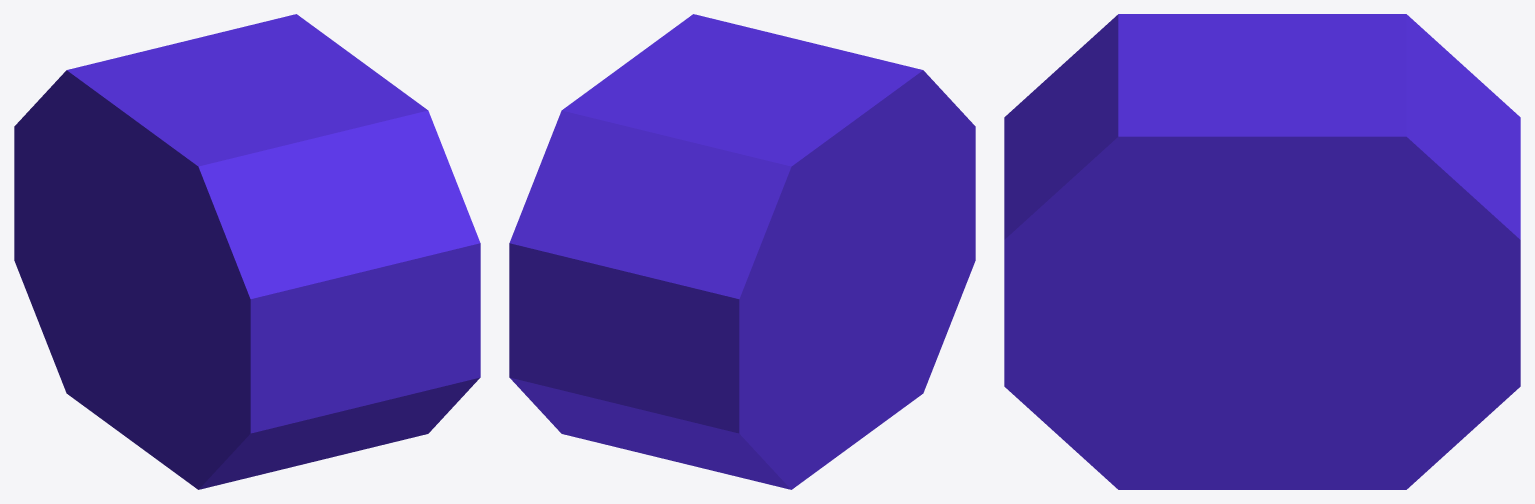
Rendered from inicio-fin.glb.
The picture shows the model from 3 angles, left to right: view 1: azimuth 30°, elevation 25°; view 2: azimuth 150°, elevation 25°; view 3: azimuth 270°, elevation 25°; orthographic projection. The views are drawn at different scales.
Visible parts, largest first — view 1: Cube; view 2: Cube; view 3: Cube.
Part boxes in pixels (x1=…): Cube: x1=14, y1=14, x2=480, y2=489; Cube: x1=509, y1=14, x2=975, y2=489; Cube: x1=1004, y1=14, x2=1520, y2=489.
Size of the model in its own units: 0.2859 by 0.3842 by 0.5084.
